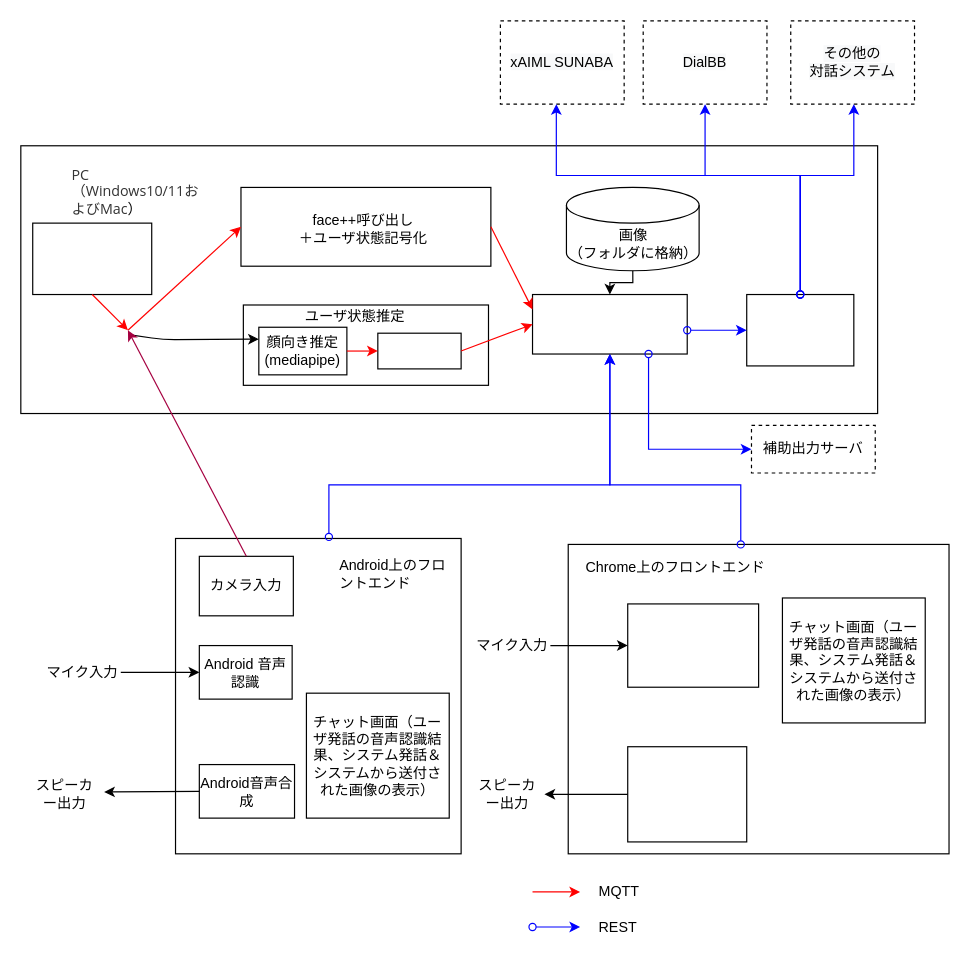
Some shapes in this 970 by 960 pixel diagram are drawn without their labels. The box of each missing label's shape, as (x1, y1, x2, y2) in pixels:
USBカメラの 入力: (32, 222, 152, 295)
メインモジュール: (531, 293, 687, 354)
ユーザ状態 記号化: (377, 332, 461, 369)
対話サーバ との接続 （接続先切替）: (746, 293, 854, 366)
音声合成（Chrome 音声合成・Amazon Polly）: (627, 746, 747, 842)
音声認識（Chrome 音声認識）: (627, 603, 759, 687)
